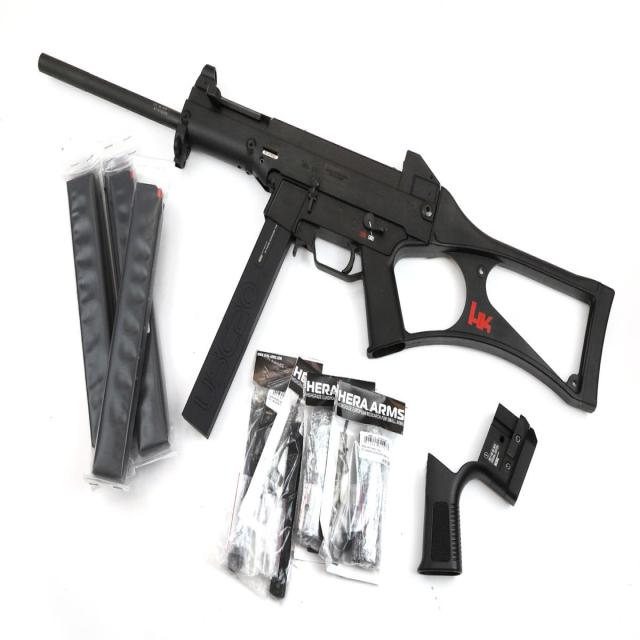SMG: (37, 55, 613, 434)
